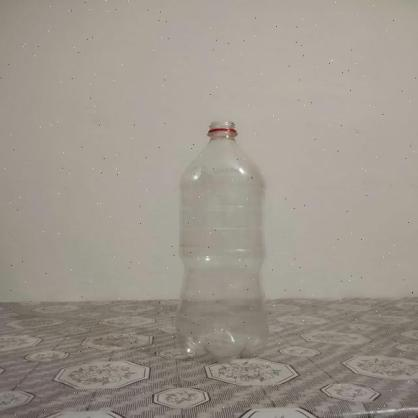bottle: (174, 118, 268, 364)
